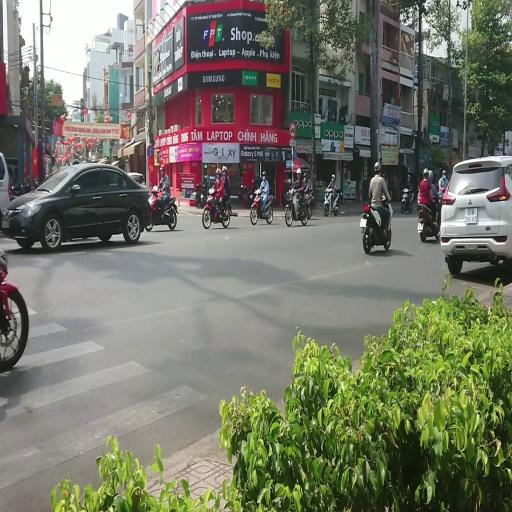bikes: (0, 248, 29, 371), (359, 198, 393, 254), (145, 185, 178, 231), (202, 188, 231, 228), (417, 194, 441, 242), (284, 188, 308, 226), (250, 188, 273, 225), (194, 176, 215, 208), (240, 178, 258, 206), (324, 186, 339, 216), (400, 186, 414, 213), (302, 190, 314, 219), (194, 182, 206, 208), (282, 179, 294, 204), (438, 184, 447, 205), (335, 188, 344, 204)
helmet: (374, 162, 381, 172), (428, 171, 434, 181), (423, 167, 429, 176), (159, 164, 165, 172), (209, 187, 215, 194), (152, 186, 158, 192), (216, 168, 221, 175), (296, 168, 301, 174), (222, 166, 227, 172), (255, 189, 261, 194), (293, 152, 298, 158), (438, 168, 442, 175), (331, 174, 335, 180), (442, 170, 446, 176), (407, 174, 411, 180), (303, 173, 307, 179), (262, 171, 266, 176), (252, 179, 254, 184)
